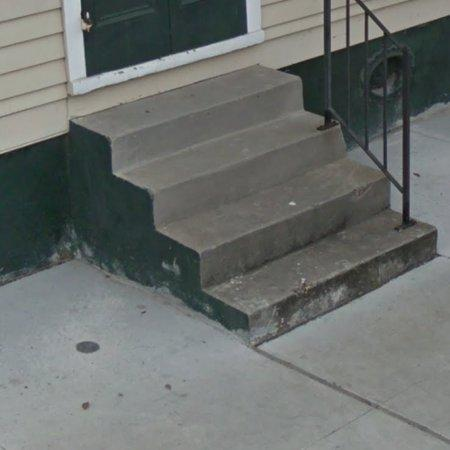stairs: (69, 65, 437, 346)
